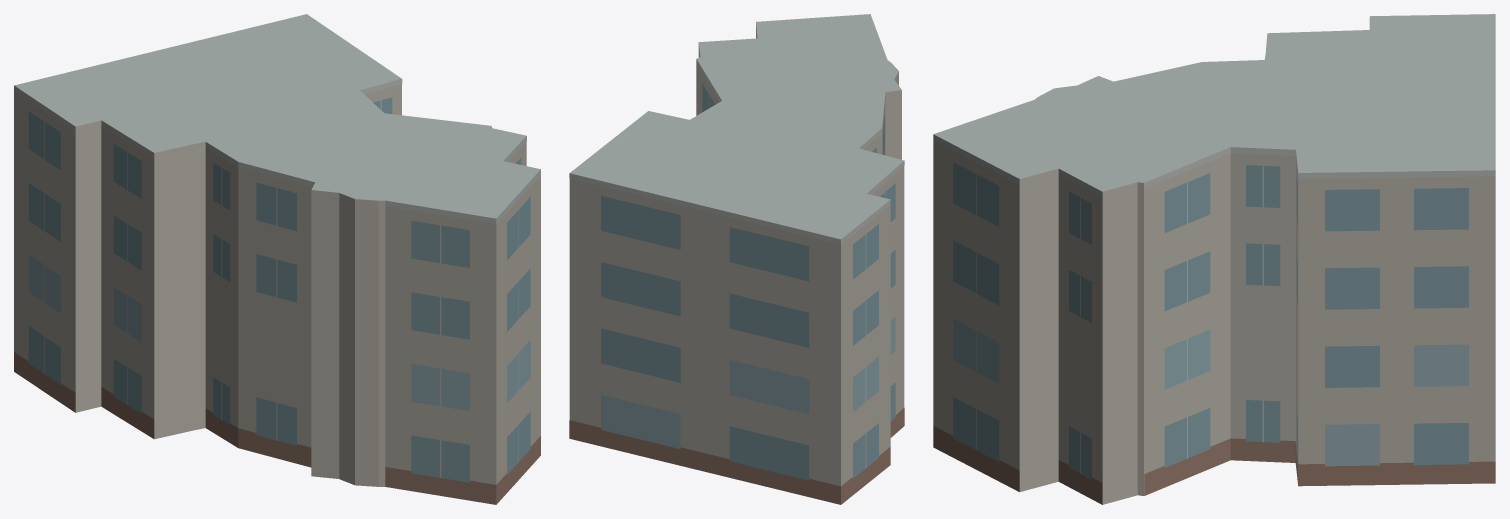
File: survey-upis-32681707.glb
3 views of the same model, side by side, from view 1: azimuth 30°, elevation 25°; view 2: azimuth 150°, elevation 25°; view 3: azimuth 270°, elevation 25° (orthographic). The views are drawn at different scales.
Visible parts, largest first — view 1: survey-upis-32681707.tmp; view 2: survey-upis-32681707.tmp; view 3: survey-upis-32681707.tmp.
Boxes of the visible parts, x1,y1,x2,y2 form: survey-upis-32681707.tmp: (14, 14, 540, 504); survey-upis-32681707.tmp: (569, 14, 904, 504); survey-upis-32681707.tmp: (933, 14, 1495, 504).
Size of the model in its own units: 15.35 by 12.6 by 20.52.
